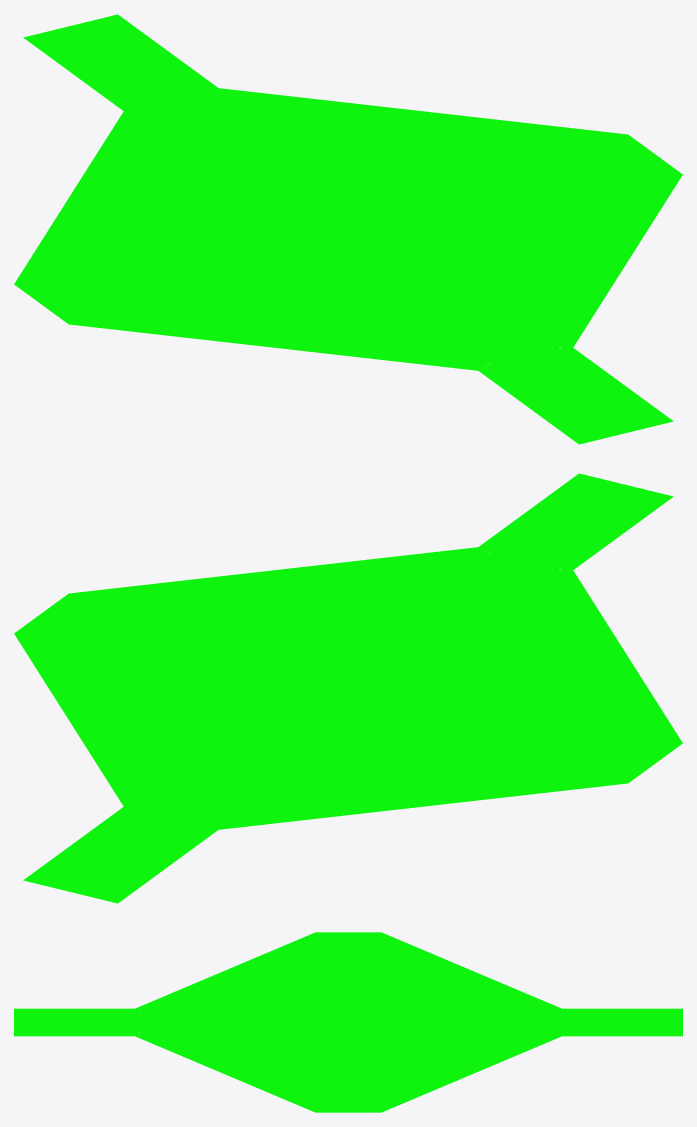
Rendered from s07b_ib2-floor.glb.
The picture shows the model from 3 angles, top to bottom: view 1: azimuth 30°, elevation 25°; view 2: azimuth 150°, elevation 25°; view 3: azimuth 270°, elevation 25°; orthographic projection. The views are drawn at different scales.
Parts seen in each view (by area): view 1: collision_floor-colonly; view 2: collision_floor-colonly; view 3: collision_floor-colonly.
Boxes of the visible parts, x1=… form: collision_floor-colonly: x1=14, y1=14, x2=682, y2=444; collision_floor-colonly: x1=14, y1=473, x2=682, y2=903; collision_floor-colonly: x1=14, y1=932, x2=682, y2=1112.
Bounding box in the file's own units: 38.86 × 0 × 60.93.
